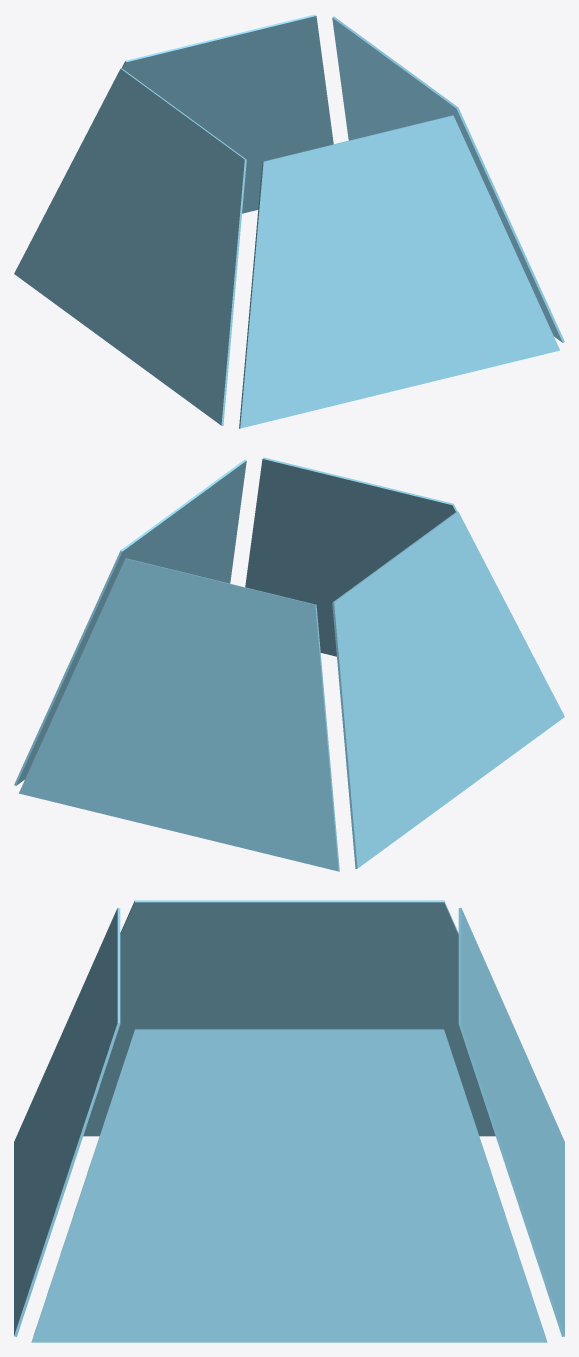
File: Windows.glb
3 renders of one model, top to bottom at view 1: azimuth 30°, elevation 25°; view 2: azimuth 150°, elevation 25°; view 3: azimuth 270°, elevation 25°, orthographic. The views are drawn at different scales.
Parts seen in each view (by area): view 1: Cube.134; view 2: Cube.134; view 3: Cube.134.
Boxes of the visible parts, x1,y1,x2,y2 form: Cube.134: (14,14,564,428); Cube.134: (14,457,564,871); Cube.134: (14,900,564,1342).
Bounding box in the file's own units: 0.0532 × 0.0327 × 0.0594.
1 material, 1 textured.
